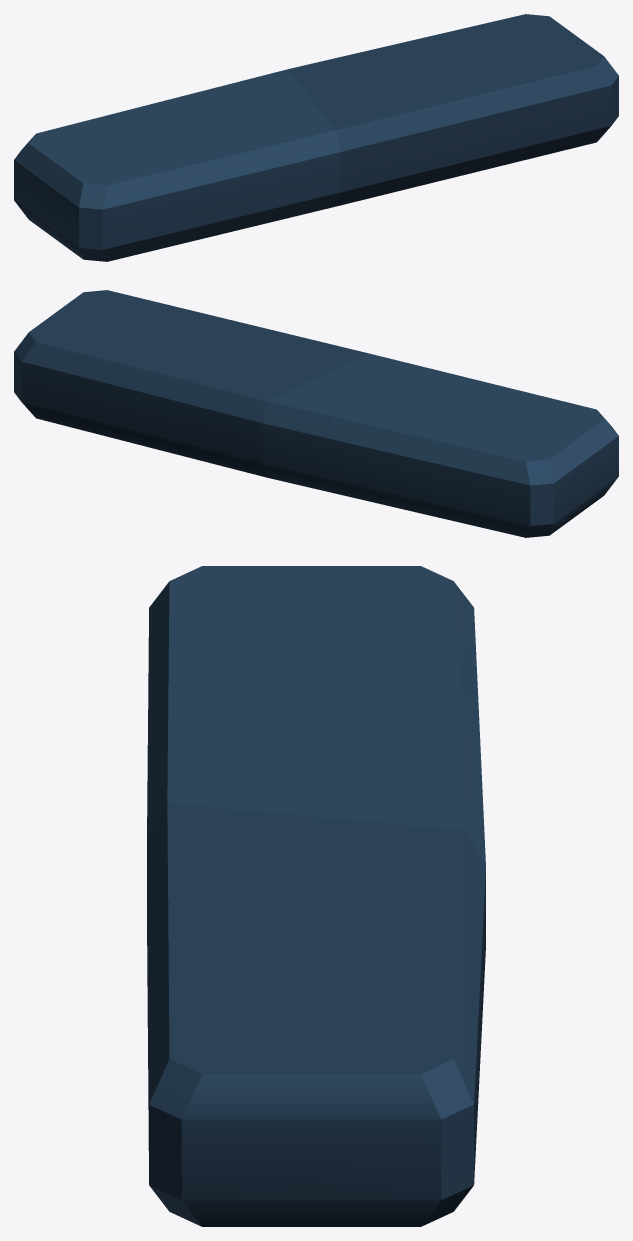
Rendered from floor_divider_1.fbx.
The picture shows the model from 3 angles, top to bottom: view 1: azimuth 30°, elevation 25°; view 2: azimuth 150°, elevation 25°; view 3: azimuth 270°, elevation 25°; orthographic projection. The views are drawn at different scales.
Visible parts, largest first — view 1: floor_divider_1; view 2: floor_divider_1; view 3: floor_divider_1.
Boxes of the visible parts, box(x1,y1,x2,y2) form: floor_divider_1: box(14, 14, 618, 261); floor_divider_1: box(14, 290, 618, 537); floor_divider_1: box(147, 566, 485, 1226).
Size of the model in its own units: 210 by 28.34 by 57.03.
